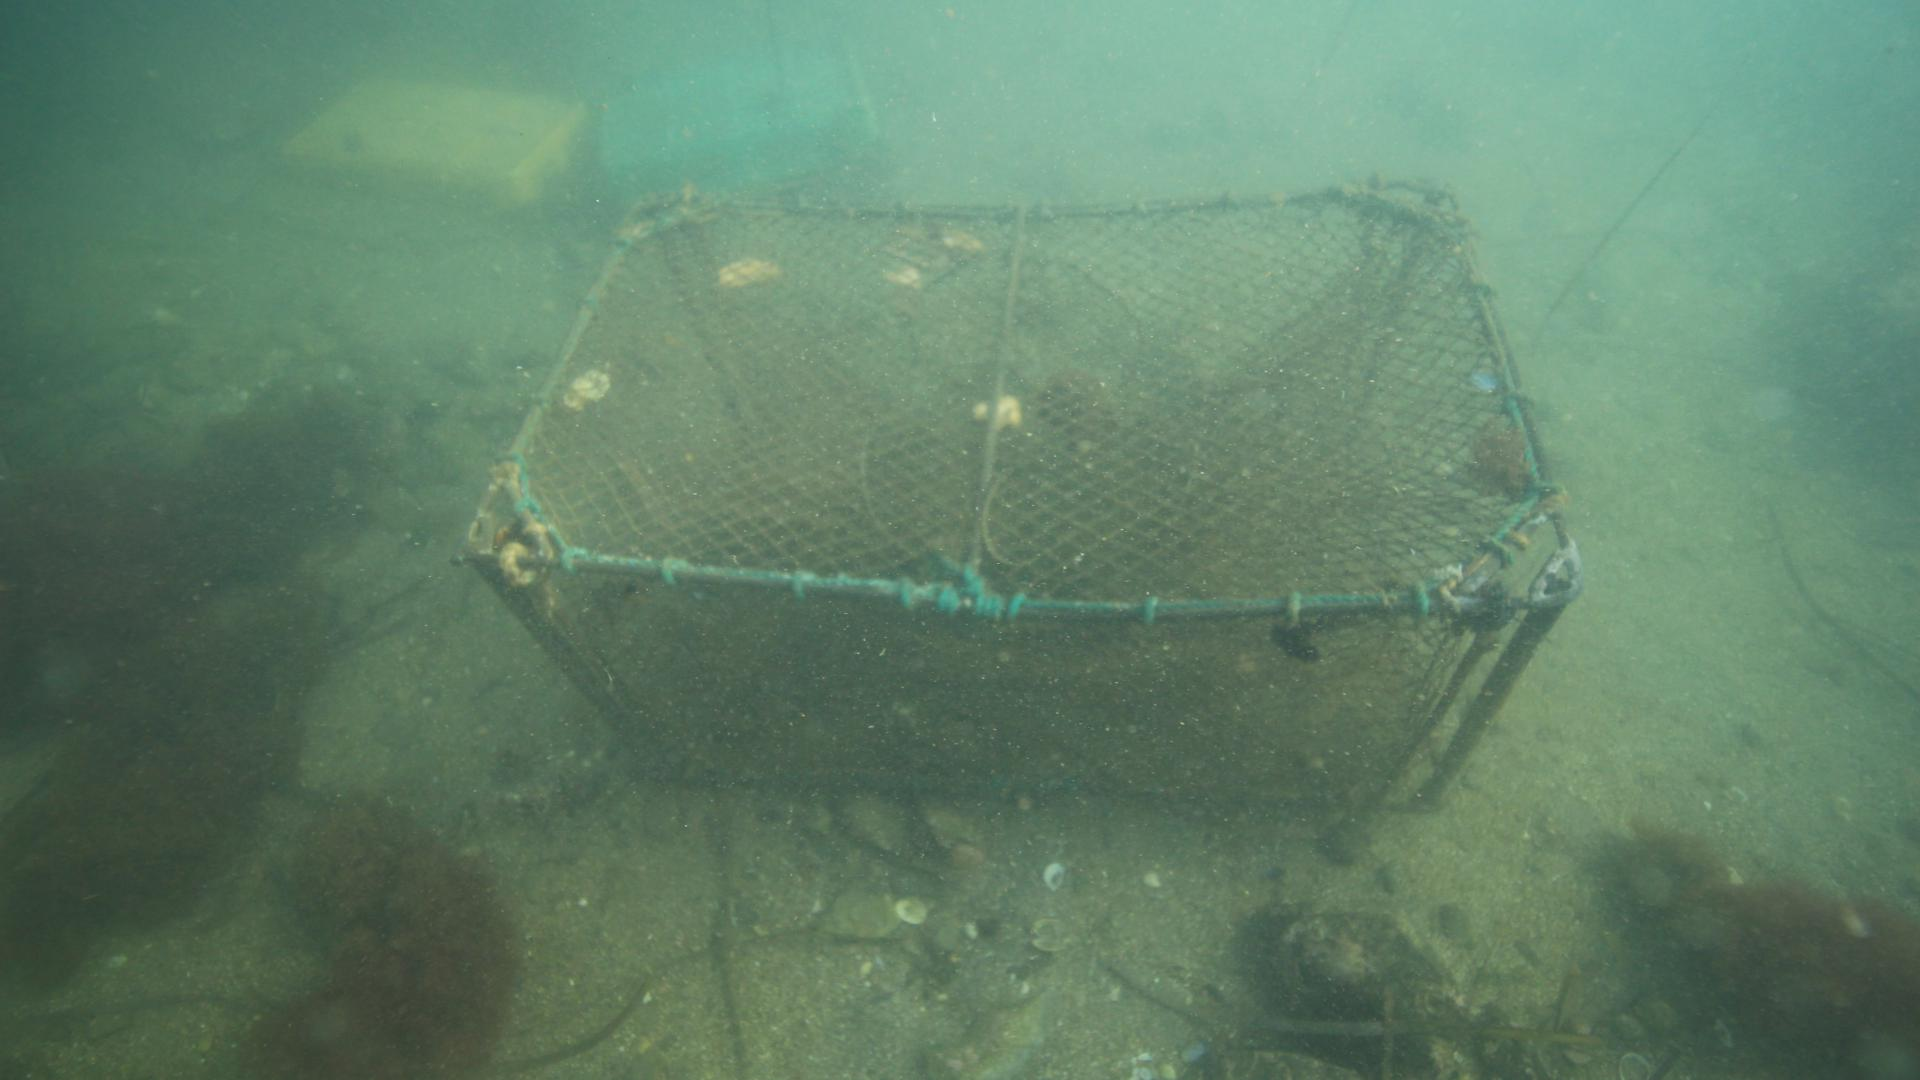rectangular fish trap: (460, 175, 1586, 814)
